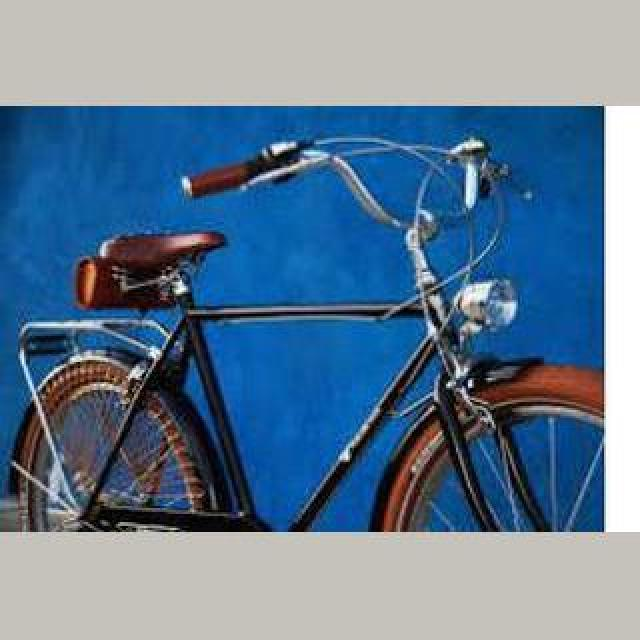Person: (10, 127, 602, 529)
